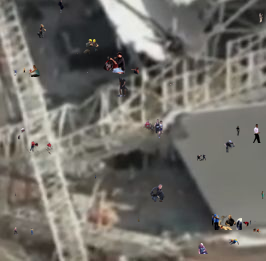Human: (25, 141, 55, 158), (103, 52, 126, 74), (140, 119, 164, 140), (212, 214, 242, 230), (236, 124, 261, 143), (135, 204, 159, 222), (79, 39, 99, 55), (58, 0, 81, 13), (116, 75, 129, 98), (150, 184, 165, 202), (23, 65, 40, 77), (224, 140, 235, 157), (15, 127, 27, 140), (37, 24, 46, 38), (198, 243, 208, 254), (243, 220, 256, 227), (228, 239, 239, 245), (131, 67, 139, 75), (197, 154, 206, 161), (253, 228, 261, 234), (13, 227, 18, 235), (259, 13, 263, 23), (261, 191, 265, 199), (13, 69, 17, 76), (30, 228, 34, 235), (170, 83, 176, 85), (75, 53, 78, 55), (95, 175, 96, 179), (15, 193, 16, 196), (87, 72, 88, 73)
